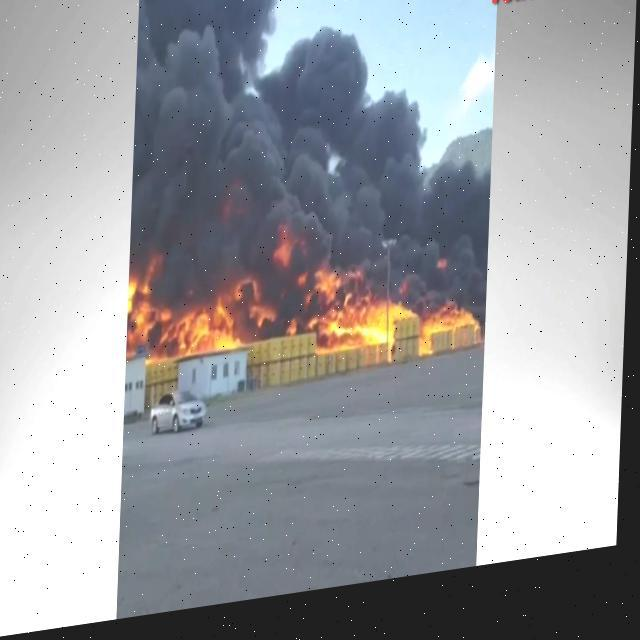Fire: (132, 276, 256, 369), (316, 292, 482, 361)
